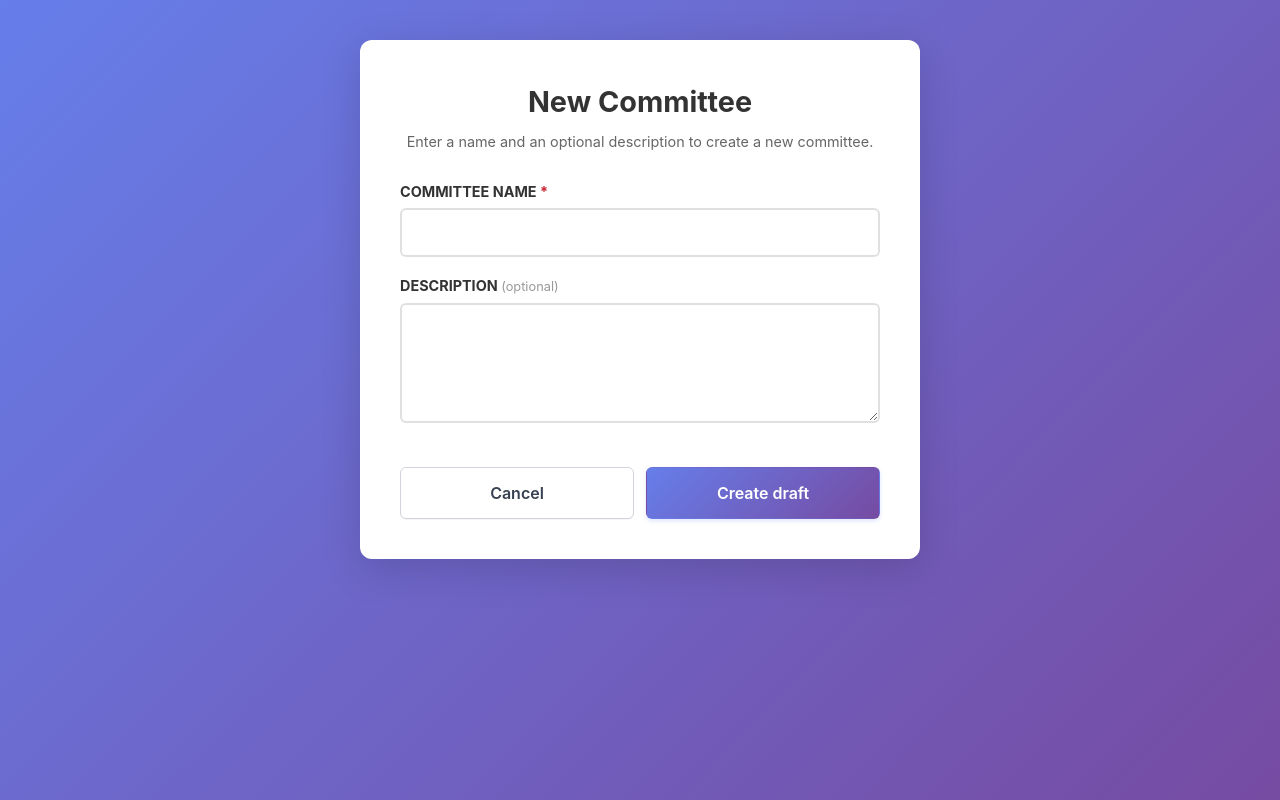
Test: CommitteeCreationForm › blocks empty committee name and shows validation error
This screenshot has width=1280, height=800.
Click the button "Create draft" at (763, 493), box x1=646 y1=467 x2=880 y2=519
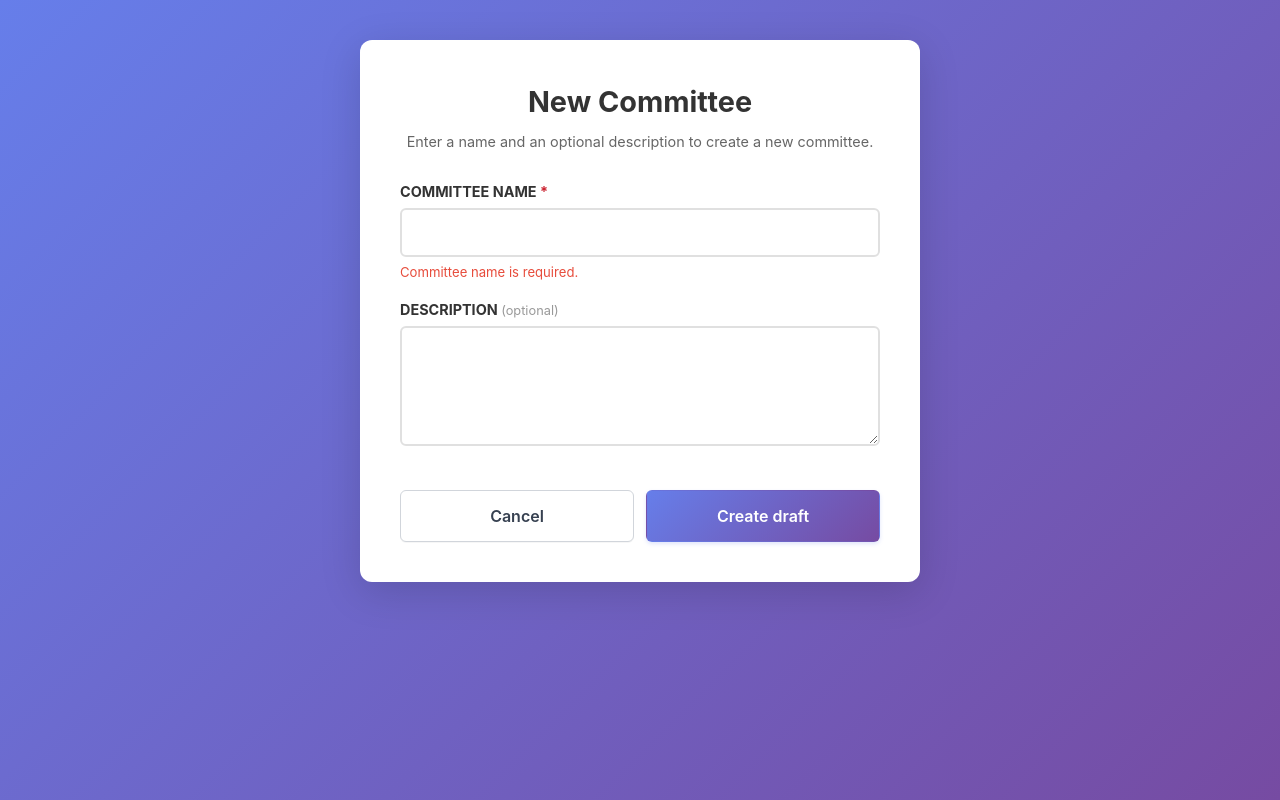
Result: the text "Committee name is required." is shown at x1=400 y1=264 x2=578 y2=280
